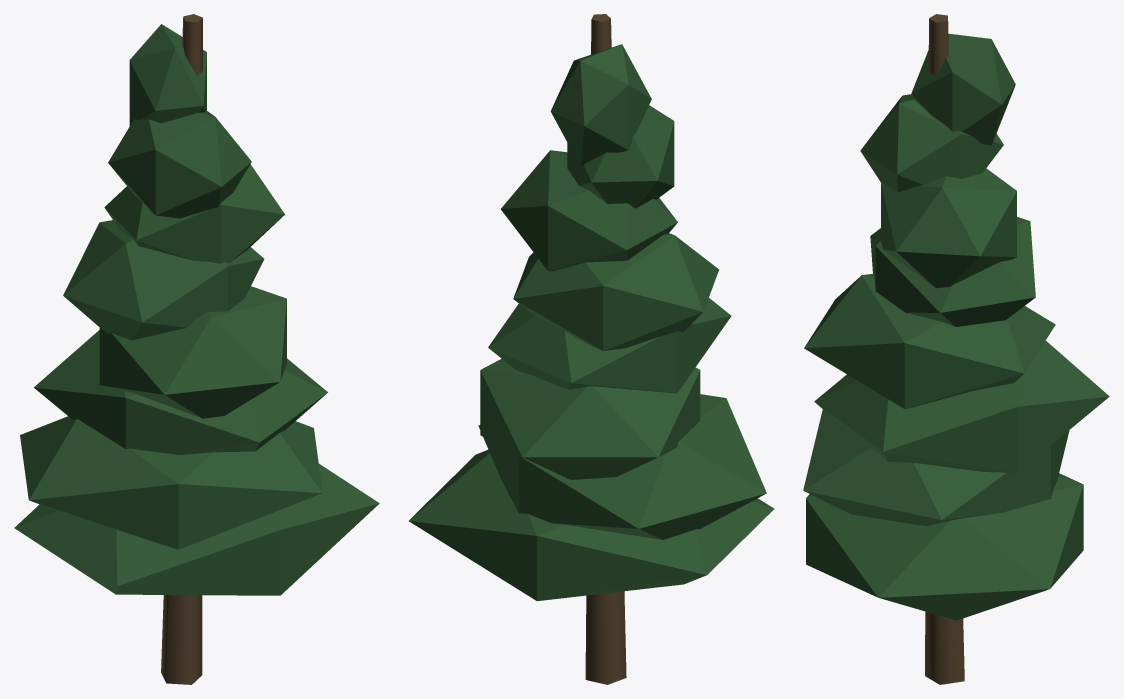
The picture shows the model from 3 angles, left to right: view 1: azimuth 30°, elevation 25°; view 2: azimuth 150°, elevation 25°; view 3: azimuth 270°, elevation 25°; orthographic projection.
Visible parts, largest first — view 1: pine-leaf; view 2: pine-leaf; view 3: pine-leaf.
Boxes of the visible parts, x1,y1,x2,y2 form: pine-leaf: (14,14,379,684); pine-leaf: (409,14,774,684); pine-leaf: (803,14,1109,684).
Bounding box in the file's own units: 5.12 × 10.01 × 4.2.
